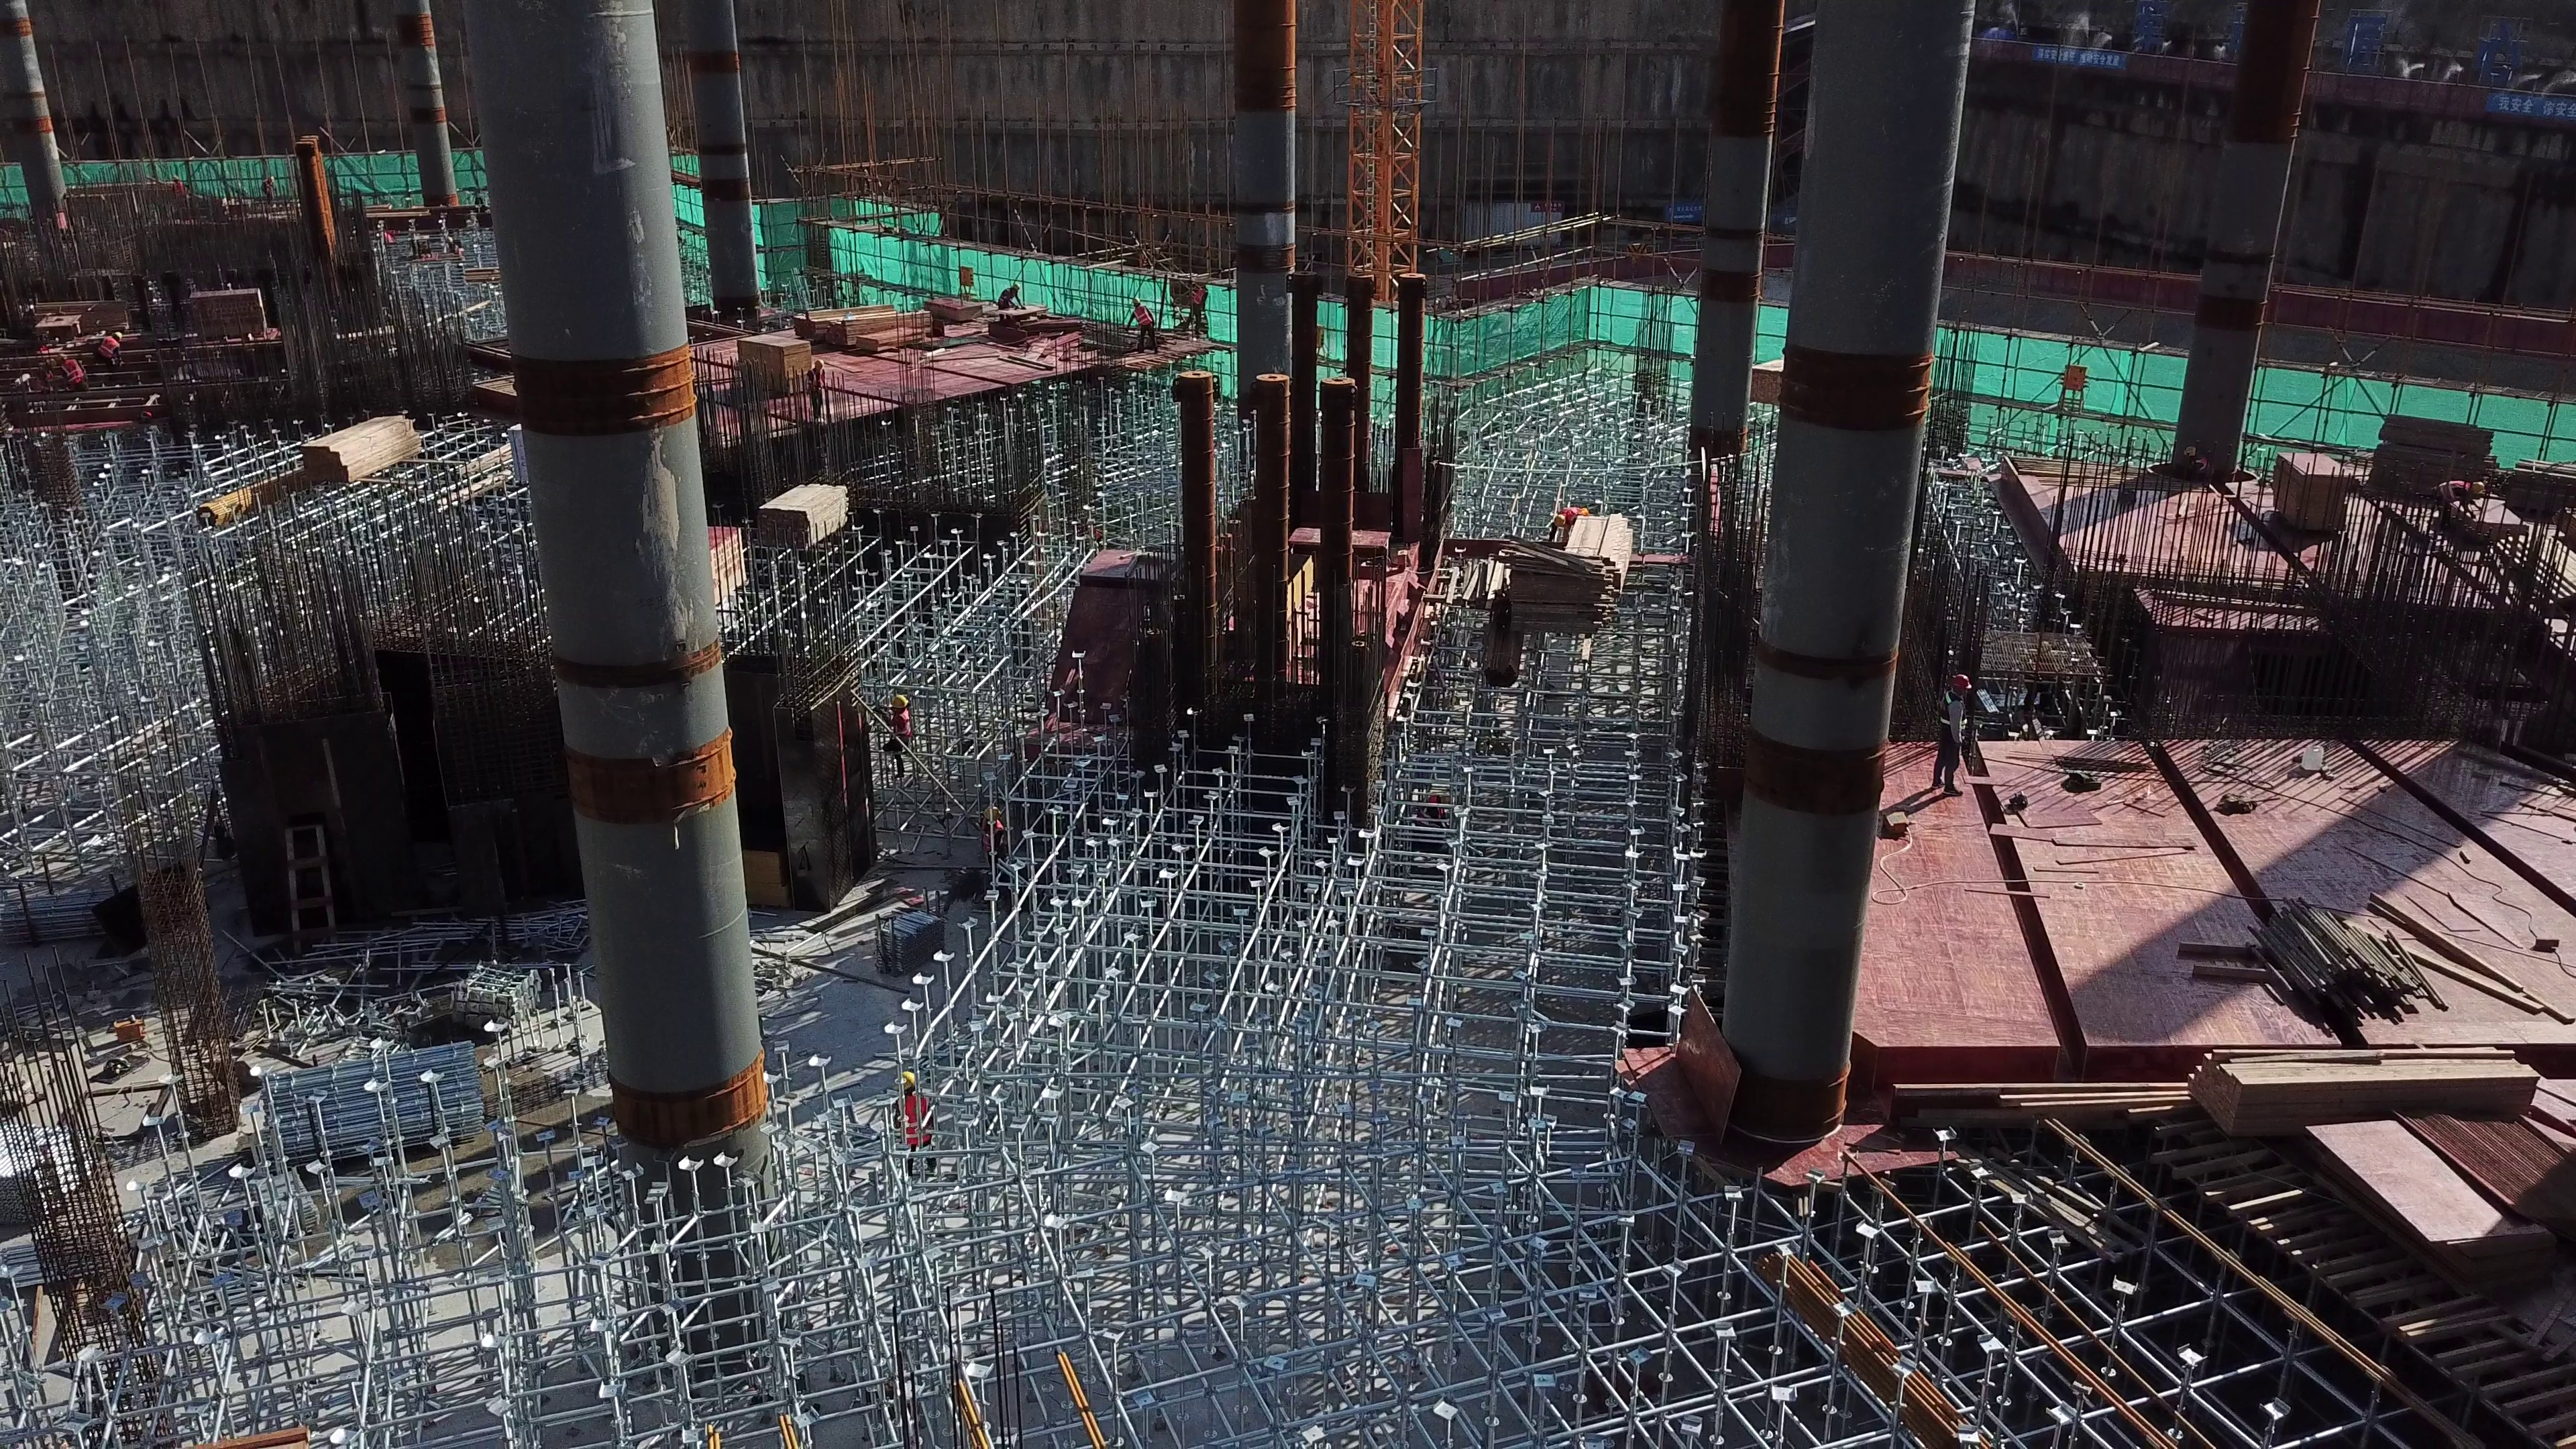helmet: (894, 1069, 917, 1092), (1948, 673, 1974, 690), (2184, 443, 2200, 455), (2473, 481, 2485, 494), (1556, 515, 1568, 527), (813, 358, 827, 368), (114, 329, 124, 341), (54, 350, 66, 362), (1130, 294, 1140, 307), (1012, 280, 1022, 291)
person: (880, 1061, 949, 1179), (1923, 672, 1986, 799), (2431, 480, 2491, 531), (1127, 293, 1167, 354), (93, 325, 136, 370), (807, 354, 830, 423), (1548, 502, 1592, 535), (2174, 439, 2212, 477), (54, 348, 89, 388)
vest: (893, 1097, 936, 1144), (1937, 690, 1968, 729), (2436, 474, 2475, 502), (61, 361, 87, 386), (98, 336, 119, 361), (1132, 308, 1155, 326), (812, 370, 827, 390), (2190, 455, 2210, 470), (1568, 502, 1584, 519)
